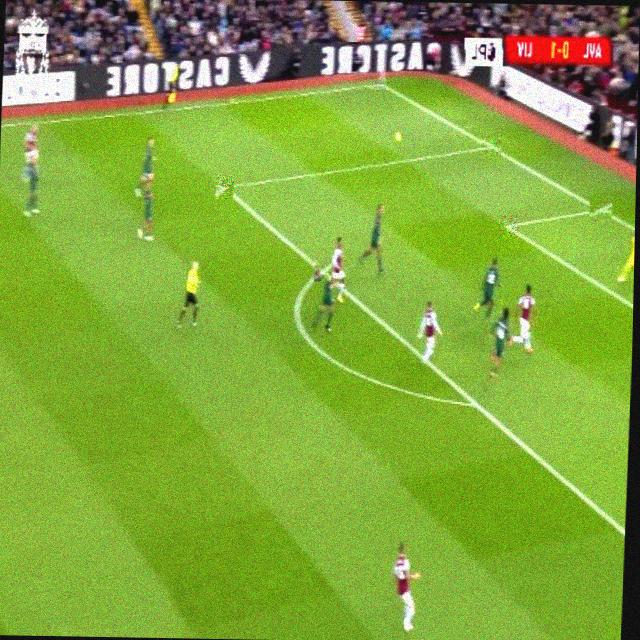bigarea_top_inner: (215, 174, 234, 198)
bigarea_top_outter: (480, 134, 501, 156)
bottom_arc_area_intersection: (463, 386, 488, 418)
corner: (369, 75, 391, 92)
smallarea_top_inner: (498, 214, 519, 238)
smallarea_top_outter: (589, 195, 612, 221)
top_arc_area_intersection: (314, 258, 331, 281)
